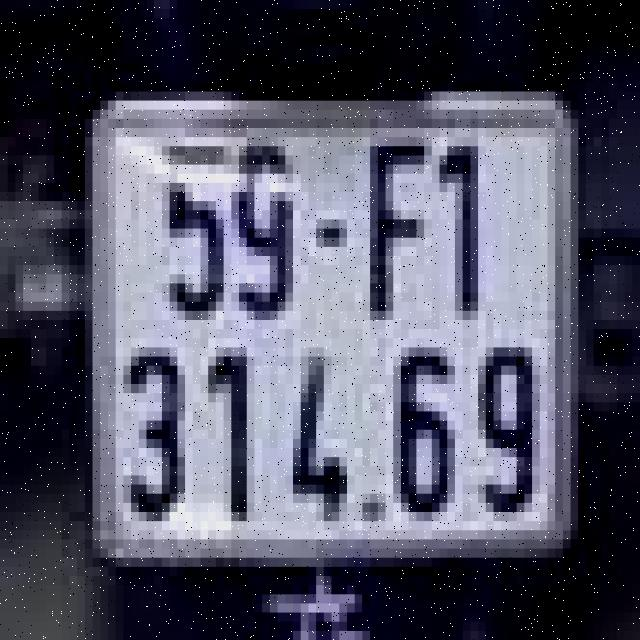1: (432, 137, 501, 320), (204, 338, 266, 530)
3: (120, 338, 197, 530)
4: (282, 343, 358, 526)
5: (147, 128, 239, 320)
6: (386, 343, 462, 526)
9: (466, 338, 544, 540), (232, 137, 308, 329)
F: (351, 128, 436, 329)
